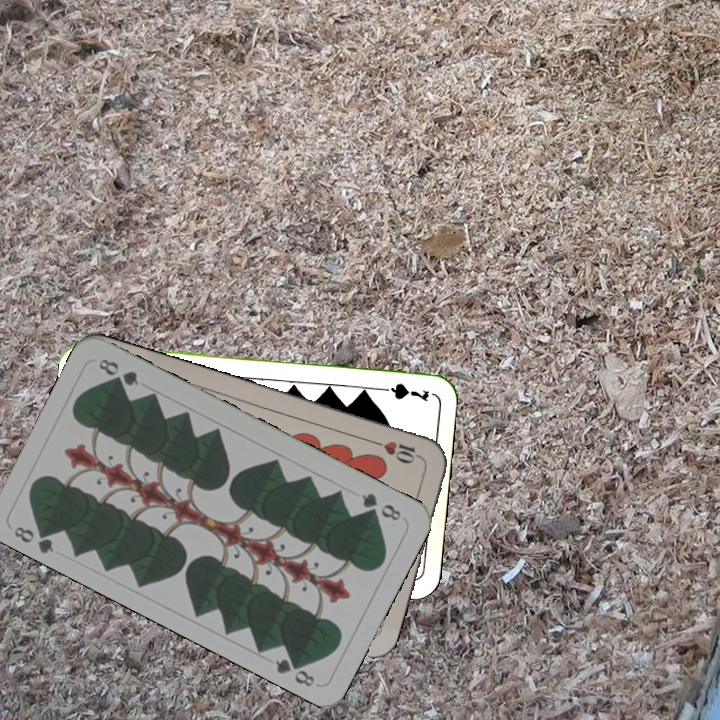G7: (372, 379, 432, 404)
G8: (9, 521, 57, 556), (357, 489, 404, 524)
H10: (369, 436, 427, 466)
